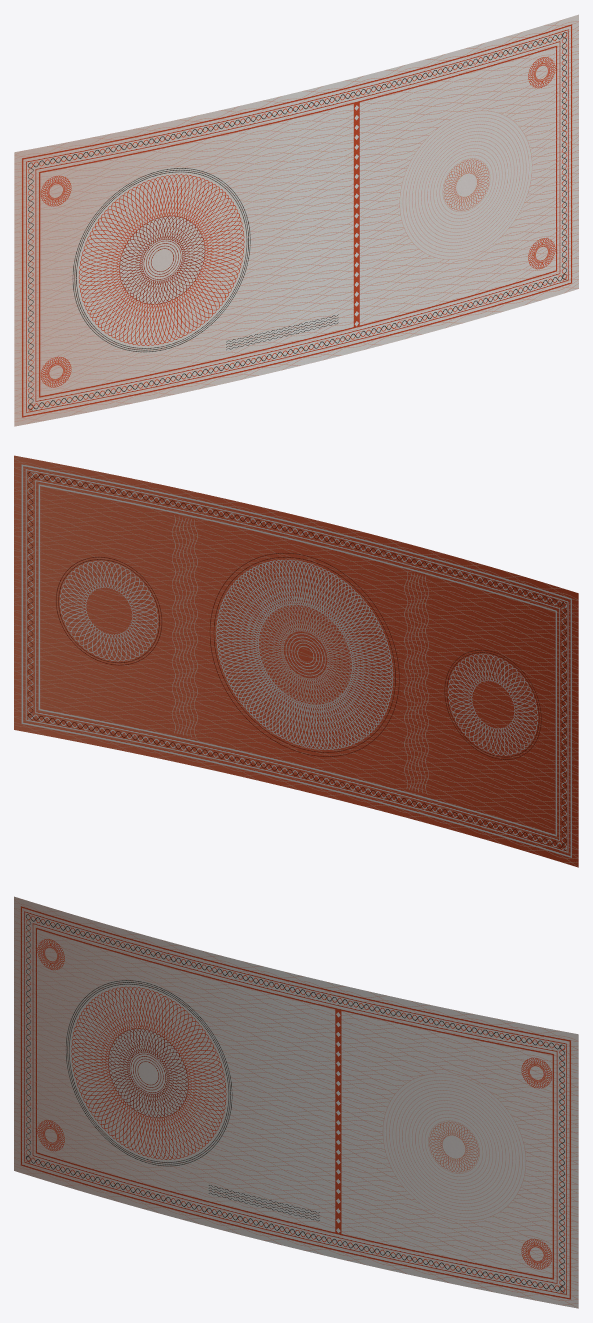
The model's file is cedula_legalizai_proprio.glb.
3 renders of one model, top to bottom at view 1: azimuth 30°, elevation 25°; view 2: azimuth 150°, elevation 25°; view 3: azimuth 330°, elevation 25°, orthographic.
Parts seen in each view (by area): view 1: Papel; view 2: Papel; view 3: Papel.
Boxes of the visible parts, x1,y1,x2,y2 form: Papel: (14,14,578,426); Papel: (14,455,578,867); Papel: (14,896,578,1308).
Size of the model in its own units: 0.14 by 0.065 by 0.00412.
Materials: 1 (1 with a texture image).
